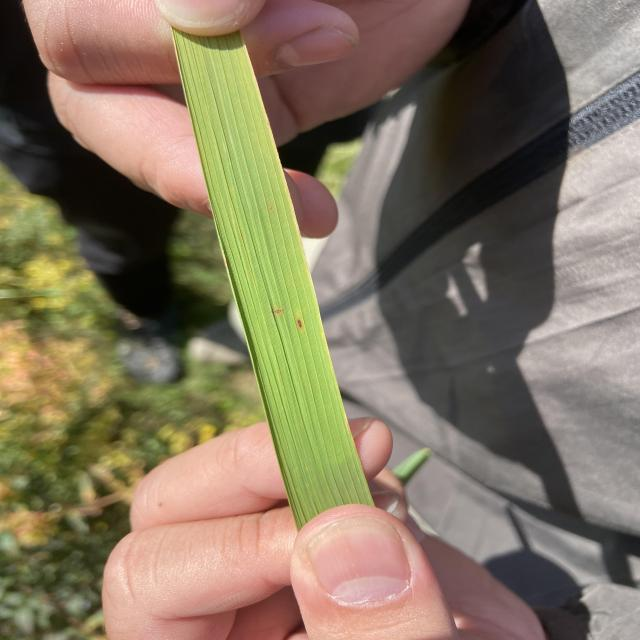Dom nau: (297, 320, 302, 328)
